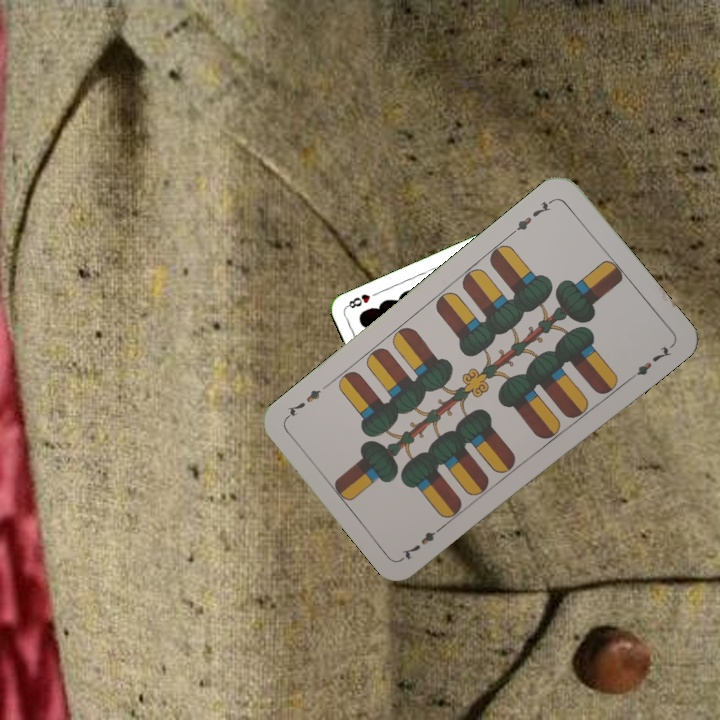E7: (507, 195, 557, 237), (398, 520, 448, 562)
